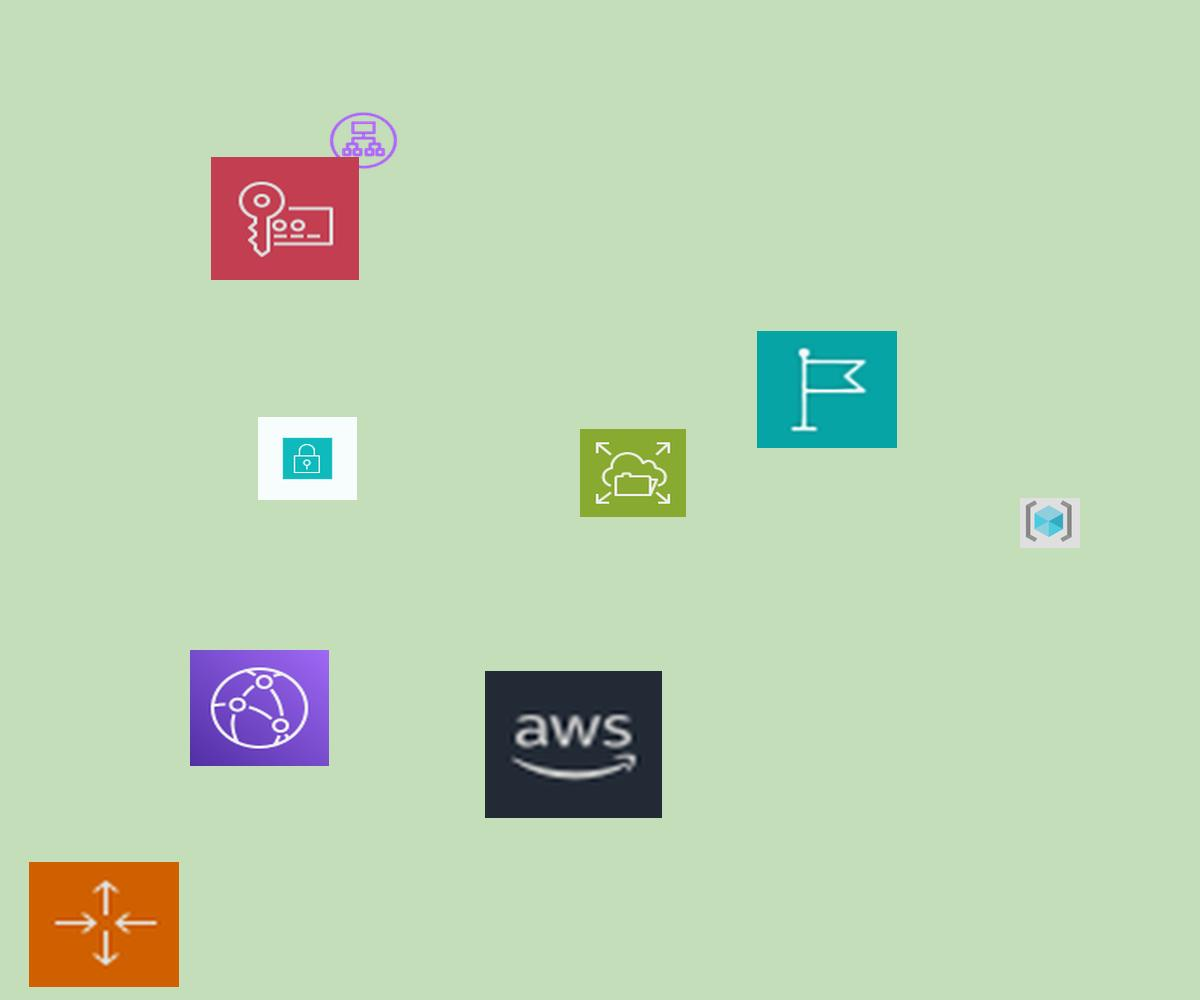AWS-Cloud-logo: (485, 671, 662, 818)
AWS-CloudFront: (190, 650, 329, 766)
AWS-EFS: (580, 429, 686, 517)
AWS-Key-Management-Service: (211, 157, 359, 280)
AWS-Private-subnet: (258, 417, 357, 500)
AWS-Region: (757, 331, 897, 448)
AWS-Res_Elastic-Load-Balancing_Application-Load-Balancer: (327, 110, 400, 171)
AWS-Scaling-group: (29, 862, 179, 987)
Azure_resource_group: (1020, 498, 1080, 548)
